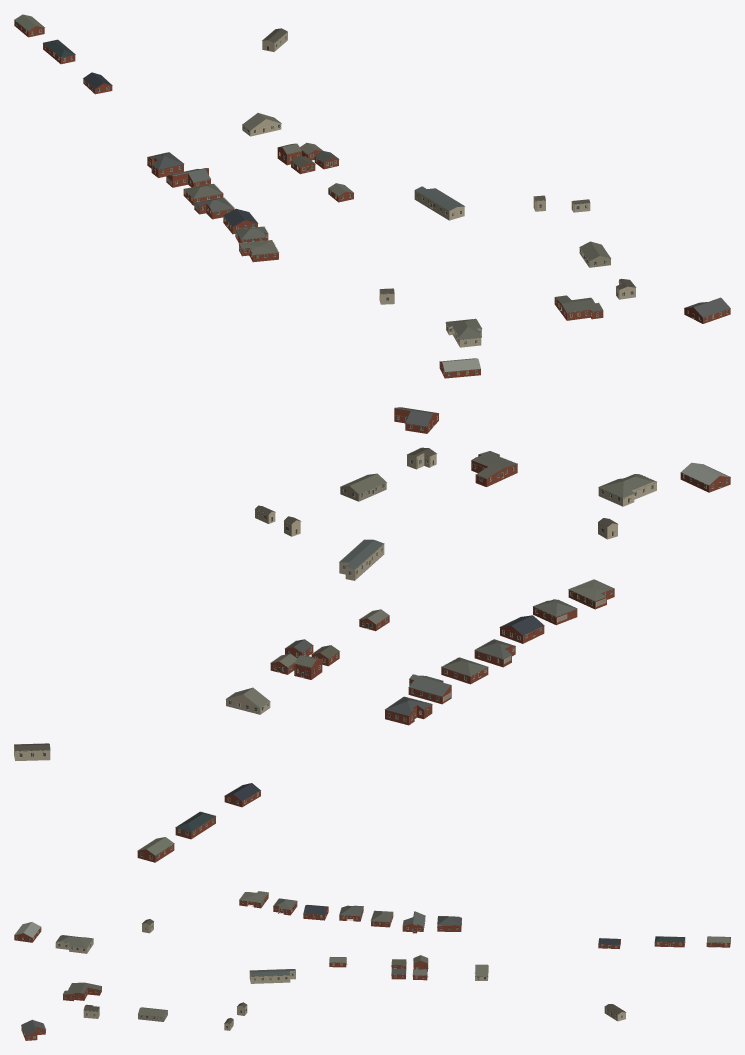
3 renders of one model, top to bottom at view 1: azimuth 30°, elevation 25°; view 2: azimuth 150°, elevation 25°; view 3: azimuth 270°, elevation 25°, orthographic. The views are drawn at different scales.
Visible parts, largest first — view 1: 0_15_638294549_2, 0_15_638294556_3; view 2: 0_15_638294549_2, 0_15_638294556_3; view 3: 0_15_638294549_2, 0_15_638294556_3.
Boxes of the visible parts, <box> form: 0_15_638294549_2: <box>14,14,730,376</box>; 0_15_638294556_3: <box>14,20,730,378</box>; 0_15_638294549_2: <box>14,407,730,859</box>; 0_15_638294556_3: <box>137,408,730,862</box>; 0_15_638294549_2: <box>14,891,730,1039</box>; 0_15_638294556_3: <box>14,893,730,1040</box>.
Size of the model in its own units: 193 by 19.66 by 472.
